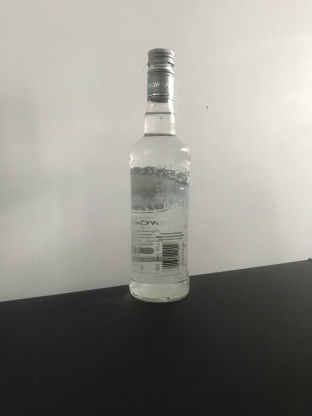nakretka: (145, 46, 175, 103)
